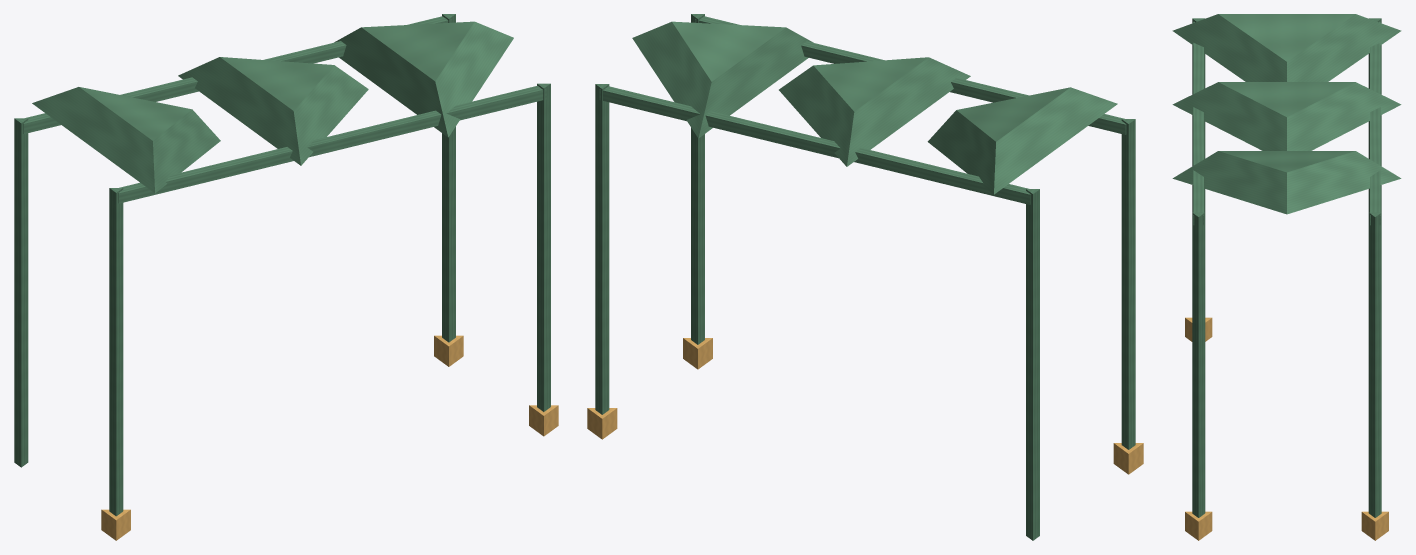
File: atlas100-s001-a08.lod2.glb
3 views of the same model, side by side, from view 1: azimuth 30°, elevation 25°; view 2: azimuth 150°, elevation 25°; view 3: azimuth 270°, elevation 25° (orthographic). The views are drawn at different scales.
Parts seen in each view (by area): view 1: atlas100-s001-a08:part-014, atlas100-s001-a08:part-012, atlas100-s001-a08:part-010, atlas100-s001-a08:part-009, atlas100-s001-a08:part-000, atlas100-s001-a08:part-002, atlas100-s001-a08:part-006, atlas100-s001-a08:part-004, atlas100-s001-a08:part-008, atlas100-s001-a08:part-005, atlas100-s001-a08:part-003, atlas100-s001-a08:part-007; view 2: atlas100-s001-a08:part-014, atlas100-s001-a08:part-012, atlas100-s001-a08:part-010, atlas100-s001-a08:part-008, atlas100-s001-a08:part-002, atlas100-s001-a08:part-000, atlas100-s001-a08:part-004, atlas100-s001-a08:part-006, atlas100-s001-a08:part-009, atlas100-s001-a08:part-003, atlas100-s001-a08:part-005, atlas100-s001-a08:part-007; view 3: atlas100-s001-a08:part-010, atlas100-s001-a08:part-012, atlas100-s001-a08:part-014, atlas100-s001-a08:part-004, atlas100-s001-a08:part-006, atlas100-s001-a08:part-008, atlas100-s001-a08:part-009, atlas100-s001-a08:part-005, atlas100-s001-a08:part-007, atlas100-s001-a08:part-000, atlas100-s001-a08:part-002, atlas100-s001-a08:part-003.
Part boxes in pixels (<box>): atlas100-s001-a08:part-014: <box>334,21,513,137</box>; atlas100-s001-a08:part-012: <box>178,57,368,165</box>; atlas100-s001-a08:part-010: <box>32,87,220,193</box>; atlas100-s001-a08:part-009: <box>118,85,546,203</box>; atlas100-s001-a08:part-000: <box>14,118,28,467</box>; atlas100-s001-a08:part-002: <box>109,188,123,516</box>; atlas100-s001-a08:part-006: <box>537,83,550,411</box>; atlas100-s001-a08:part-004: <box>442,14,455,342</box>; atlas100-s001-a08:part-008: <box>23,16,451,133</box>; atlas100-s001-a08:part-005: <box>434,335,463,366</box>; atlas100-s001-a08:part-003: <box>101,509,130,540</box>; atlas100-s001-a08:part-007: <box>529,405,558,436</box>; atlas100-s001-a08:part-014: <box>632,21,813,138</box>; atlas100-s001-a08:part-012: <box>779,57,970,166</box>; atlas100-s001-a08:part-010: <box>927,87,1117,194</box>; atlas100-s001-a08:part-008: <box>599,86,1030,204</box>; atlas100-s001-a08:part-002: <box>1121,119,1135,449</box>; atlas100-s001-a08:part-000: <box>1026,189,1039,540</box>; atlas100-s001-a08:part-004: <box>595,84,609,414</box>; atlas100-s001-a08:part-006: <box>691,14,704,344</box>; atlas100-s001-a08:part-009: <box>695,16,1126,134</box>; atlas100-s001-a08:part-003: <box>1113,443,1143,474</box>; atlas100-s001-a08:part-005: <box>587,408,617,439</box>; atlas100-s001-a08:part-007: <box>683,338,712,369</box>; atlas100-s001-a08:part-010: <box>1172,14,1401,81</box>; atlas100-s001-a08:part-012: <box>1172,82,1401,150</box>; atlas100-s001-a08:part-014: <box>1172,151,1401,214</box>; atlas100-s001-a08:part-004: <box>1368,212,1381,517</box>; atlas100-s001-a08:part-006: <box>1192,212,1205,517</box>; atlas100-s001-a08:part-008: <box>1370,21,1380,225</box>; atlas100-s001-a08:part-009: <box>1193,21,1203,225</box>; atlas100-s001-a08:part-005: <box>1361,511,1388,540</box>; atlas100-s001-a08:part-007: <box>1185,511,1212,540</box>; atlas100-s001-a08:part-000: <box>1368,18,1381,212</box>; atlas100-s001-a08:part-002: <box>1192,18,1205,212</box>; atlas100-s001-a08:part-003: <box>1185,317,1212,341</box>.
Bounding box in the file's own units: 5.51 × 4.4 × 2.6.
Materials: 2 (2 with a texture image).
